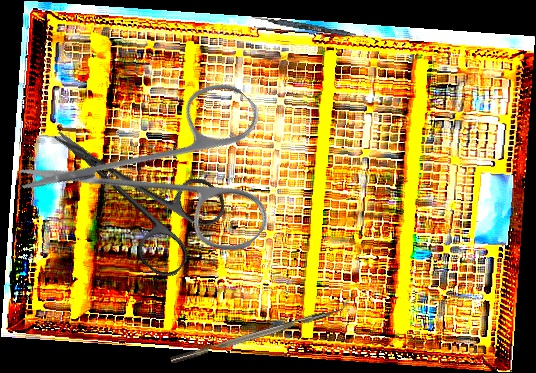Chopper: (167, 296, 355, 364)
Iris Scissors: (12, 16, 323, 327), (27, 90, 233, 284)
Spatula Surgical: (250, 14, 380, 43)
